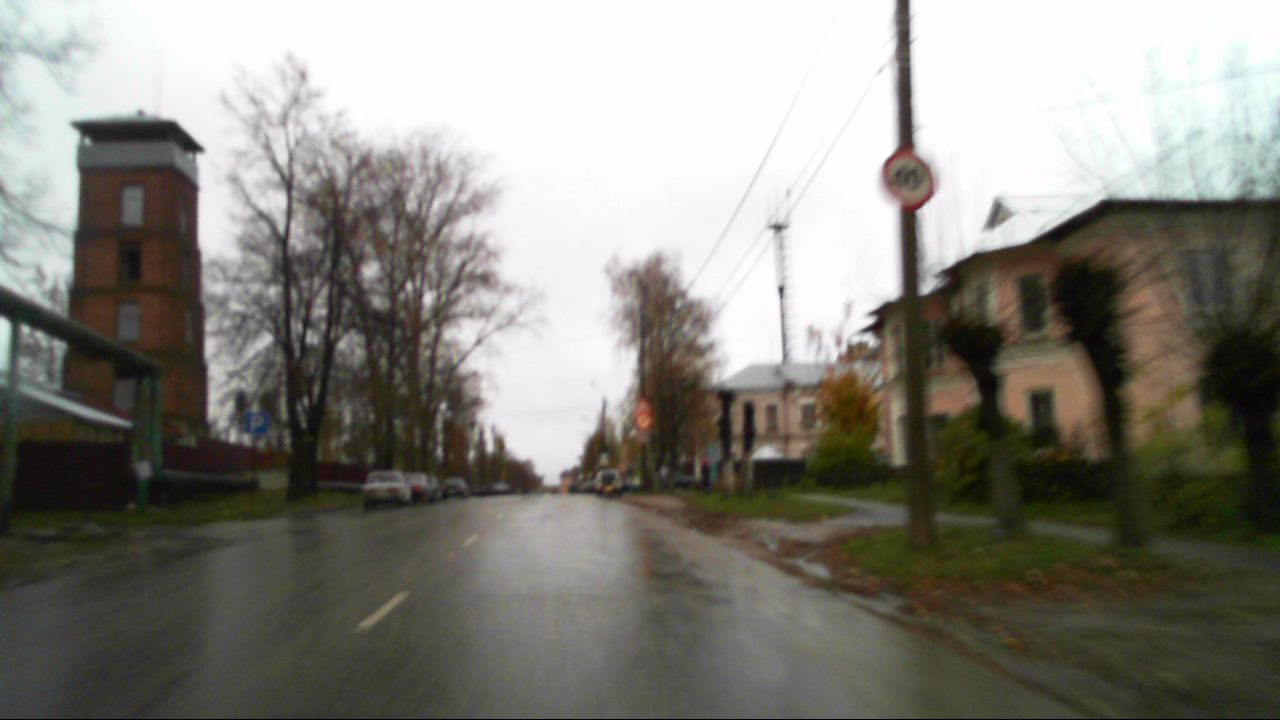speed_warning_40: (881, 152, 936, 210)
